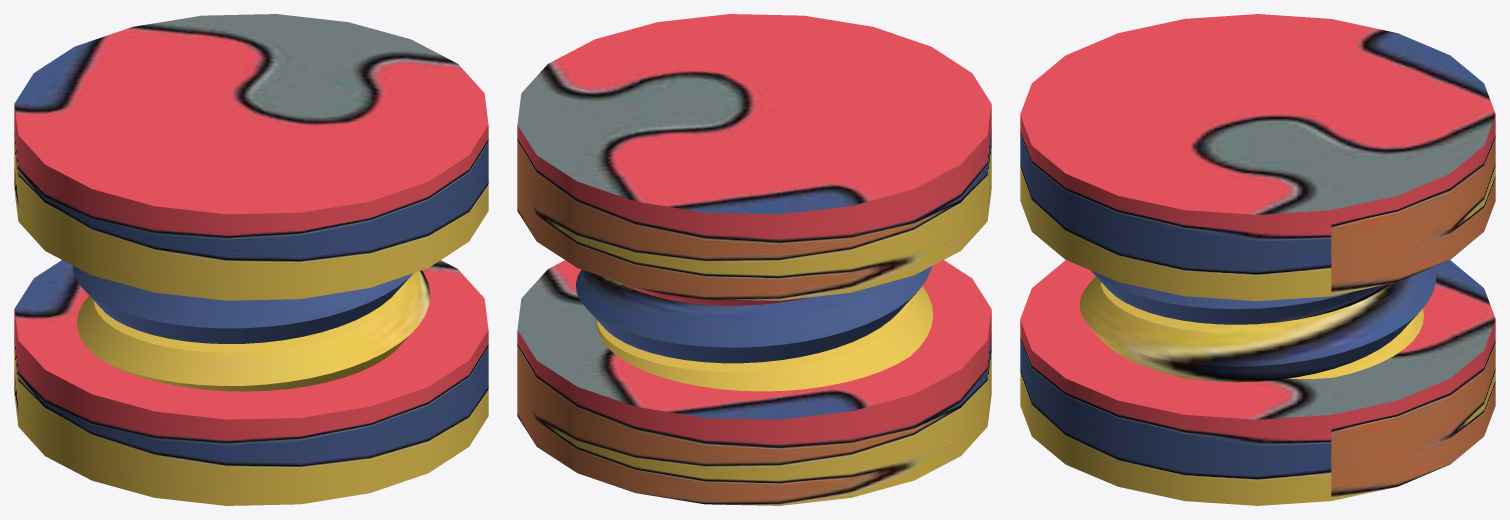
Rendered from building7.fbx.
3 views of the same model, side by side, from view 1: azimuth 30°, elevation 25°; view 2: azimuth 150°, elevation 25°; view 3: azimuth 270°, elevation 25° (orthographic).
Parts seen in each view (by area): view 1: pCylinder16; view 2: pCylinder16; view 3: pCylinder16.
Boxes of the visible parts, x1,y1,x2,y2 form: pCylinder16: [14, 14, 488, 505]; pCylinder16: [517, 14, 991, 505]; pCylinder16: [1020, 14, 1495, 505].
Size of the model in its own units: 4 by 2.7 by 4.
Materials: 1 (1 with a texture image).
